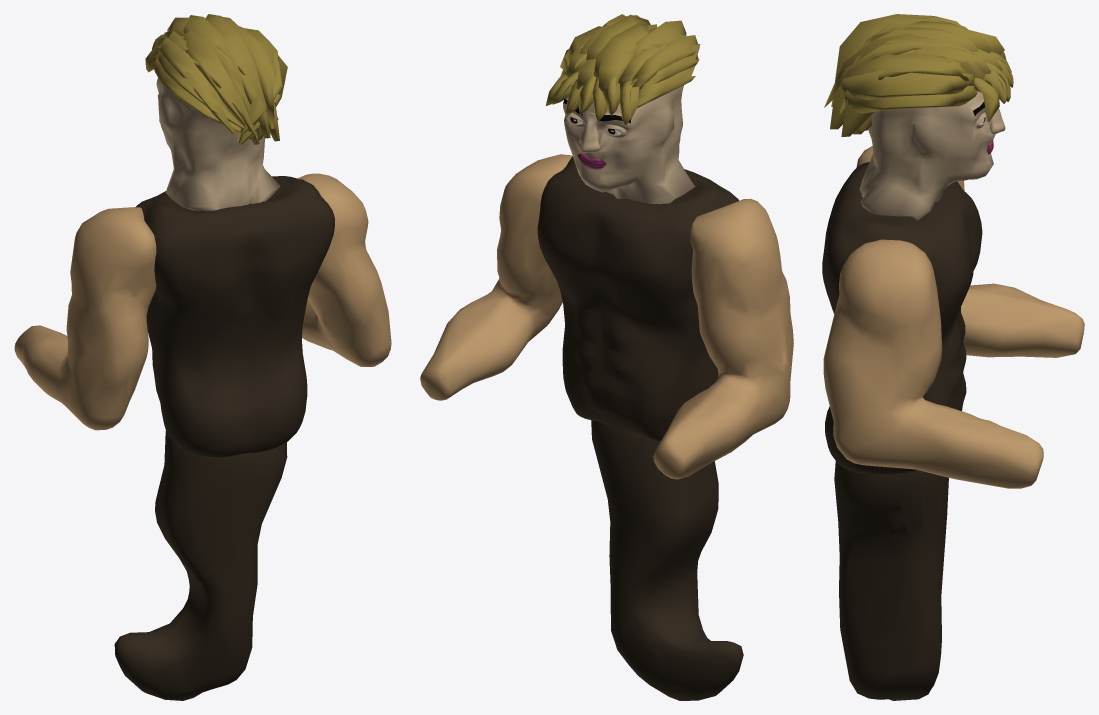
Rendered from locomotoraCabeza2 1.fbx.
3 renders of one model, left to right at view 1: azimuth 30°, elevation 25°; view 2: azimuth 150°, elevation 25°; view 3: azimuth 270°, elevation 25°, orthographic. The views are drawn at different scales.
Visible parts, largest first — view 1: Esfera.003, Esfera.004, Esfera.001, Esfera.002, Esfera, Curva NURBS.007, Curva NURBS.006, Curva NURBS.012, Curva NURBS.011, Curva NURBS.024, Curva NURBS.019, Curva NURBS.025 (+2 smaller); view 2: Esfera.003, Esfera.004, Esfera.001, Esfera.002, Esfera, Curva NURBS.012, Curva NURBS.019, Curva NURBS.007, Curva NURBS.025, Curva NURBS.006, Curva NURBS.018, Curva NURBS.024 (+3 smaller); view 3: Esfera.002, Esfera.004, Esfera.003, Esfera, Esfera.001, Curva NURBS.022, Curva NURBS.005, Curva NURBS.023, Curva NURBS.011, Curva NURBS.007, Curva NURBS.009, Curva NURBS.006 (+4 smaller).
Boxes of the visible parts, bbox=[...] form: Esfera.003: bbox=[136, 176, 334, 457]; Esfera.004: bbox=[114, 431, 287, 700]; Esfera.001: bbox=[14, 207, 156, 430]; Esfera.002: bbox=[297, 173, 391, 366]; Esfera: bbox=[156, 78, 280, 211]; Curva NURBS.007: bbox=[183, 30, 251, 131]; Curva NURBS.006: bbox=[205, 14, 270, 138]; Curva NURBS.012: bbox=[157, 37, 234, 134]; Curva NURBS.011: bbox=[233, 25, 274, 128]; Curva NURBS.024: bbox=[157, 46, 243, 128]; Curva NURBS.019: bbox=[183, 15, 252, 139]; Curva NURBS.025: bbox=[154, 56, 240, 132]; Esfera.003: bbox=[537, 156, 739, 440]; Esfera.004: bbox=[591, 420, 743, 700]; Esfera.001: bbox=[653, 198, 793, 479]; Esfera.002: bbox=[420, 154, 572, 400]; Esfera: bbox=[563, 85, 695, 203]; Curva NURBS.012: bbox=[632, 35, 698, 90]; Curva NURBS.019: bbox=[594, 22, 648, 78]; Curva NURBS.007: bbox=[633, 20, 686, 58]; Curva NURBS.025: bbox=[637, 65, 695, 108]; Curva NURBS.006: bbox=[586, 14, 657, 60]; Curva NURBS.018: bbox=[598, 48, 634, 93]; Curva NURBS.024: bbox=[634, 44, 700, 93]; Esfera.002: bbox=[823, 239, 1043, 488]; Esfera.004: bbox=[834, 461, 948, 700]; Esfera.003: bbox=[822, 162, 982, 474]; Esfera: bbox=[859, 91, 995, 219]; Esfera.001: bbox=[856, 146, 1084, 357]; Curva NURBS.022: bbox=[839, 70, 973, 99]; Curva NURBS.005: bbox=[844, 53, 973, 104]; Curva NURBS.023: bbox=[844, 85, 977, 113]; Curva NURBS.011: bbox=[824, 33, 928, 107]; Curva NURBS.007: bbox=[835, 16, 942, 81]; Curva NURBS.009: bbox=[841, 46, 991, 136]; Curva NURBS.006: bbox=[856, 27, 978, 53].
Size of the model in its own units: 462 by 930 by 317.
